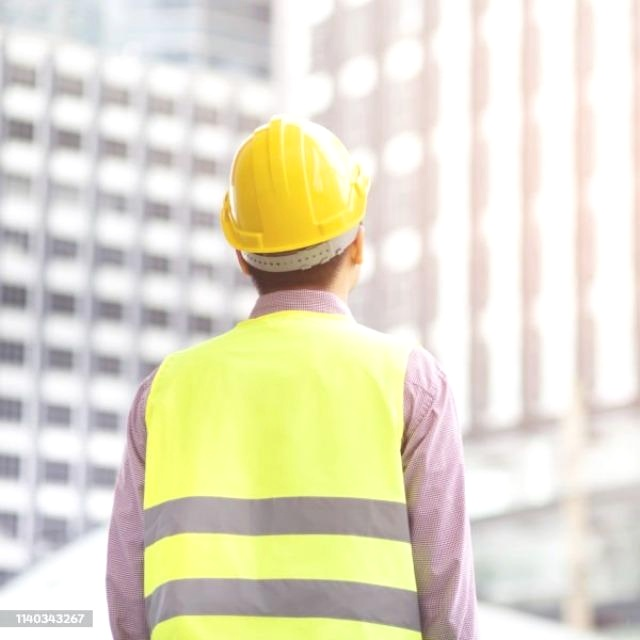Con_Casco: (218, 116, 374, 302)
Con_Chaleco: (147, 316, 421, 640)
